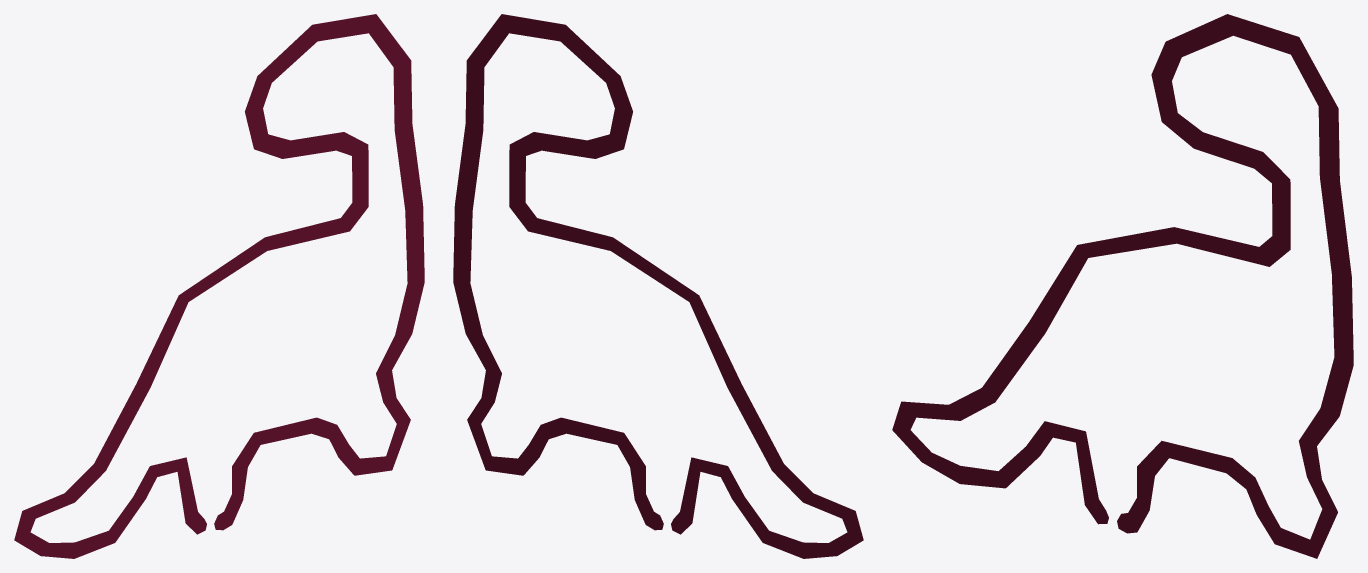
The model's file is city_SM_Sign_Neon_Flat_06.gltf.
The picture shows the model from 3 angles, left to right: view 1: azimuth 30°, elevation 25°; view 2: azimuth 150°, elevation 25°; view 3: azimuth 330°, elevation 25°; orthographic projection. The views are drawn at different scales.
Parts seen in each view (by area): view 1: SM_Sign_Neon_Flat_06; view 2: SM_Sign_Neon_Flat_06; view 3: SM_Sign_Neon_Flat_06.
Boxes of the visible parts, x1,y1,x2,y2 form: SM_Sign_Neon_Flat_06: (14,14,424,558); SM_Sign_Neon_Flat_06: (453,14,863,558); SM_Sign_Neon_Flat_06: (892,14,1353,558).
Bounding box in the file's own units: 1.12 × 1.26 × 2.8e-16.
1 material, 1 textured.
